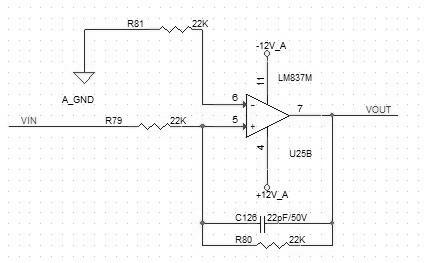amplifier: (240, 89, 295, 141)
cap1: (258, 214, 268, 234)
res2: (157, 22, 193, 35), (253, 238, 289, 251), (136, 120, 171, 132)
